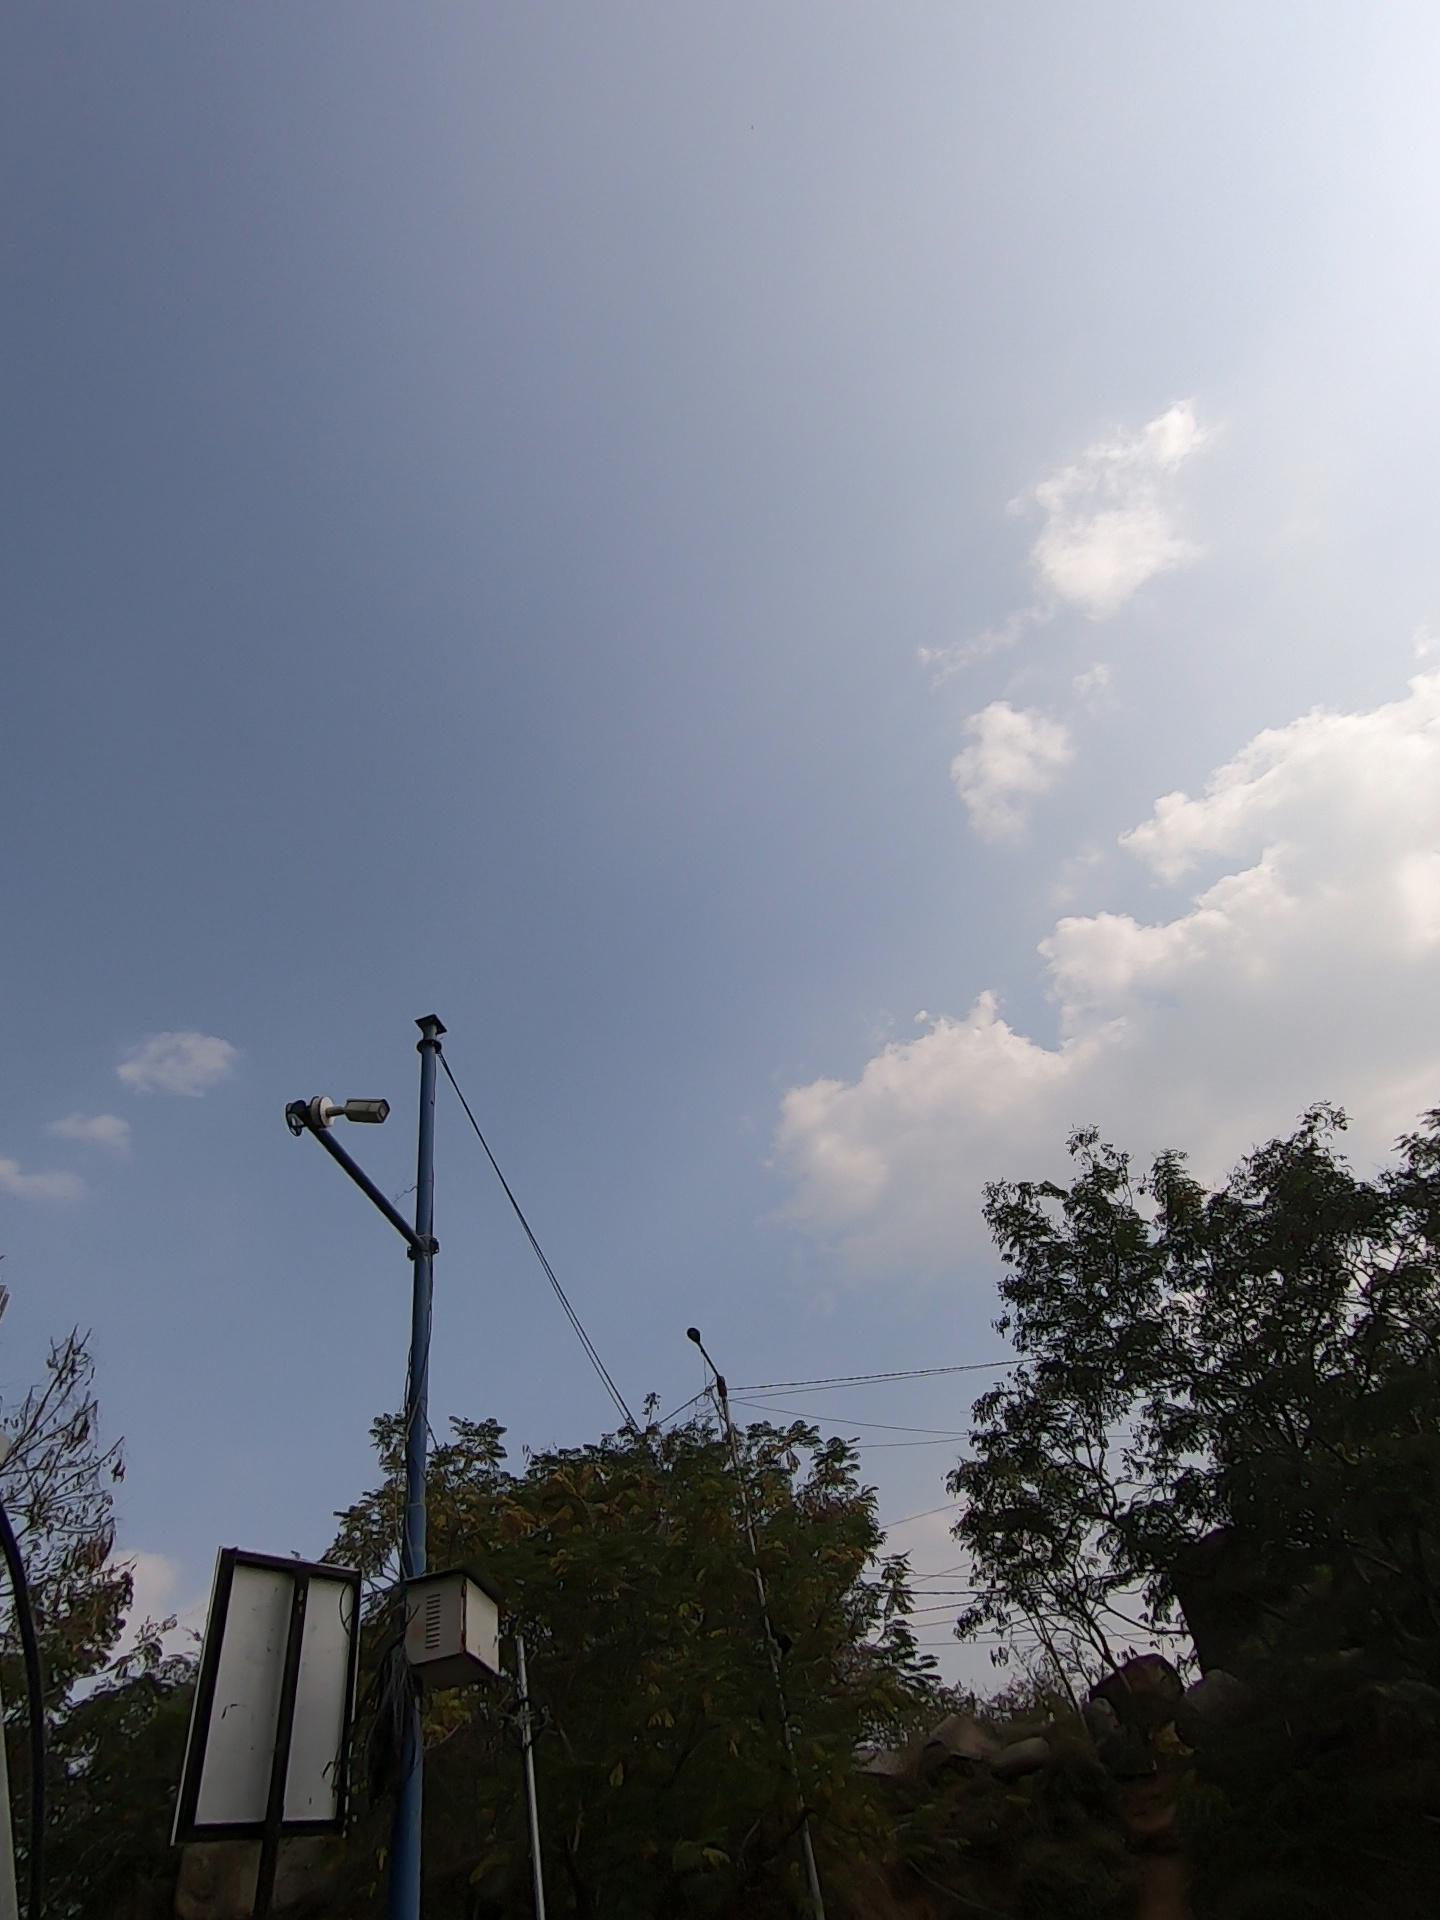off: (230, 955, 572, 1356)
